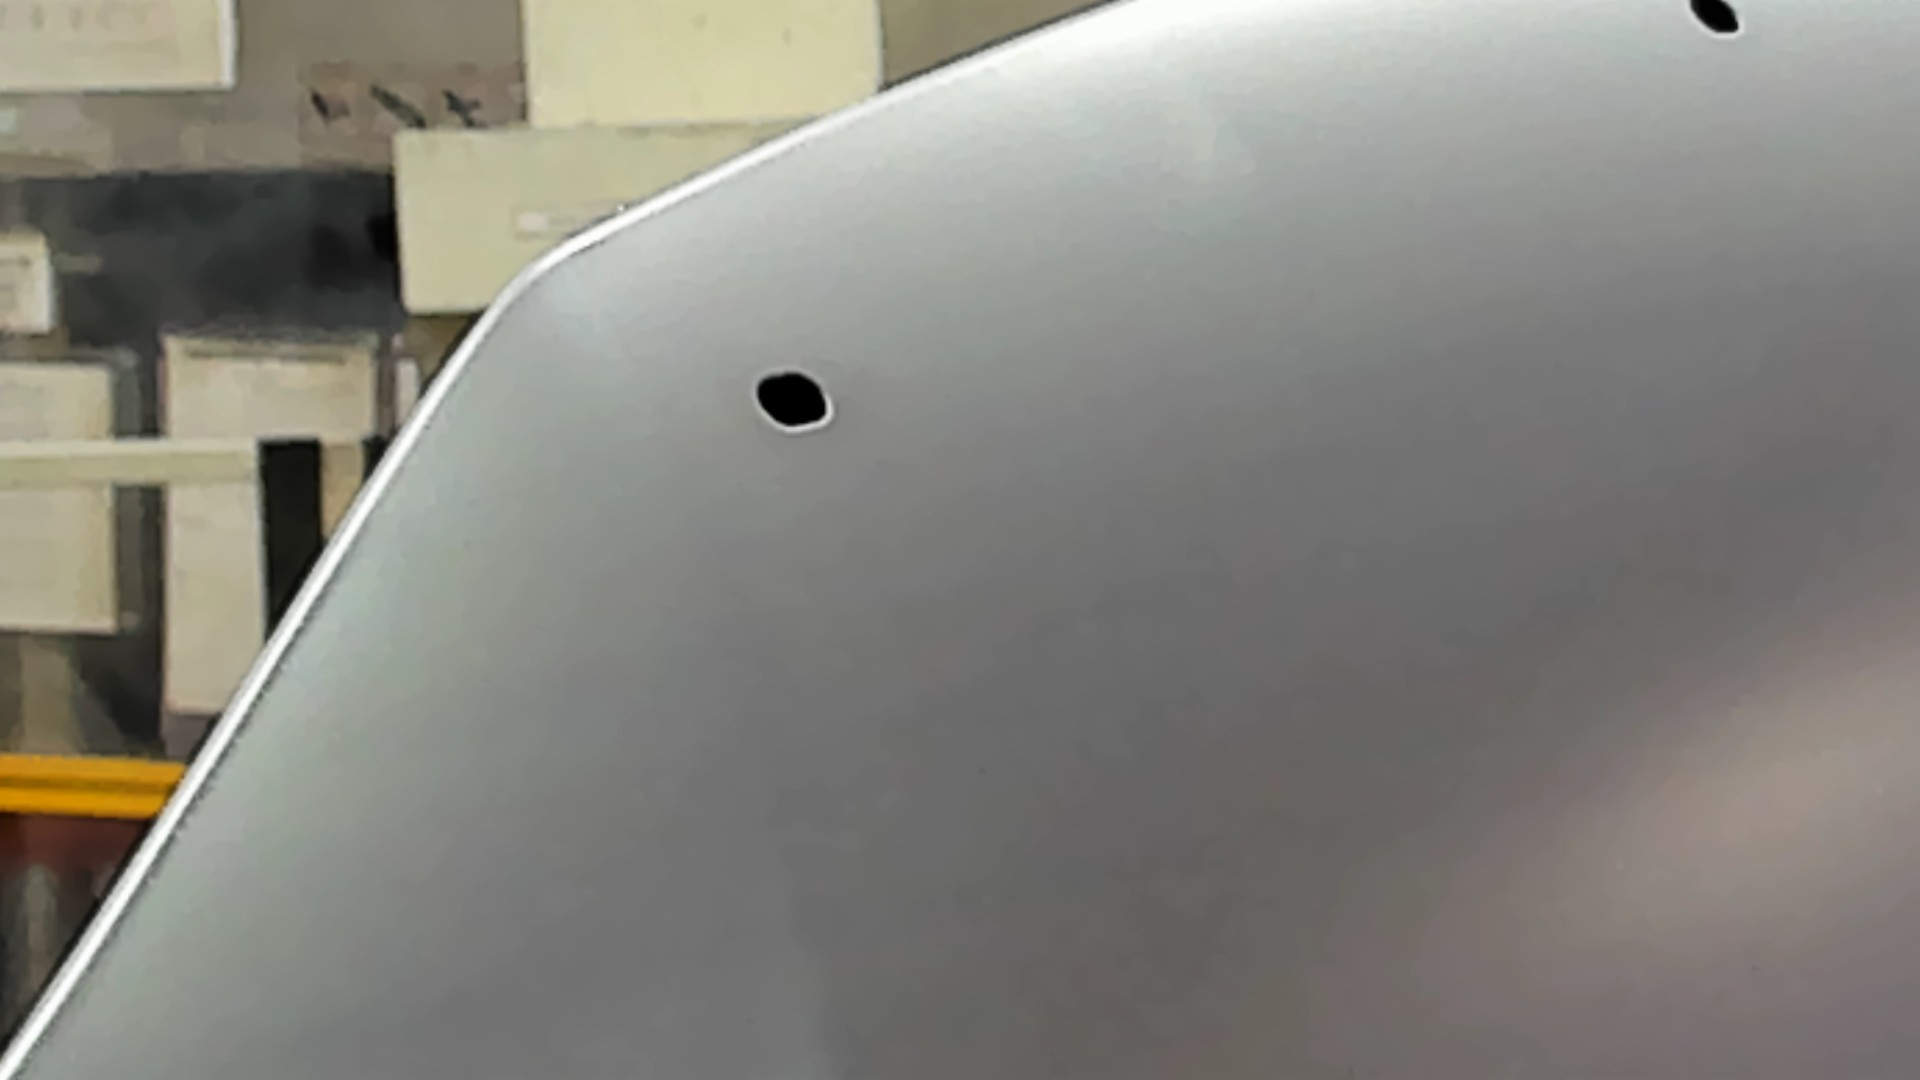amorfo: (752, 368, 837, 433), (1683, 1, 1747, 45)
